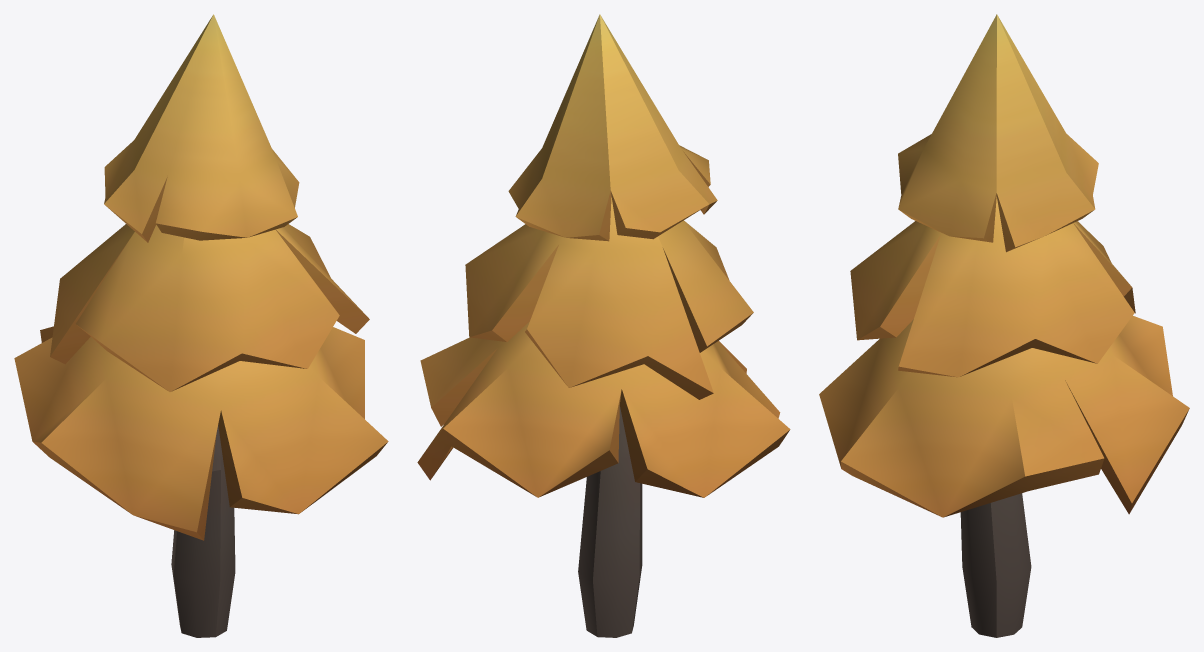
Rendered from tree_pine_yellow_small.glb.
3 views of the same model, side by side, from view 1: azimuth 30°, elevation 25°; view 2: azimuth 150°, elevation 25°; view 3: azimuth 270°, elevation 25° (orthographic).
Visible parts, largest first — view 1: tree_pine_yellow_small; view 2: tree_pine_yellow_small; view 3: tree_pine_yellow_small.
Part boxes in pixels (x1,y1,x2,y2): tree_pine_yellow_small: [14, 14, 388, 637]; tree_pine_yellow_small: [417, 14, 790, 637]; tree_pine_yellow_small: [819, 14, 1189, 637].
Bounding box in the file's own units: 2.4 × 4.04 × 2.2.
1 material, 1 textured.
